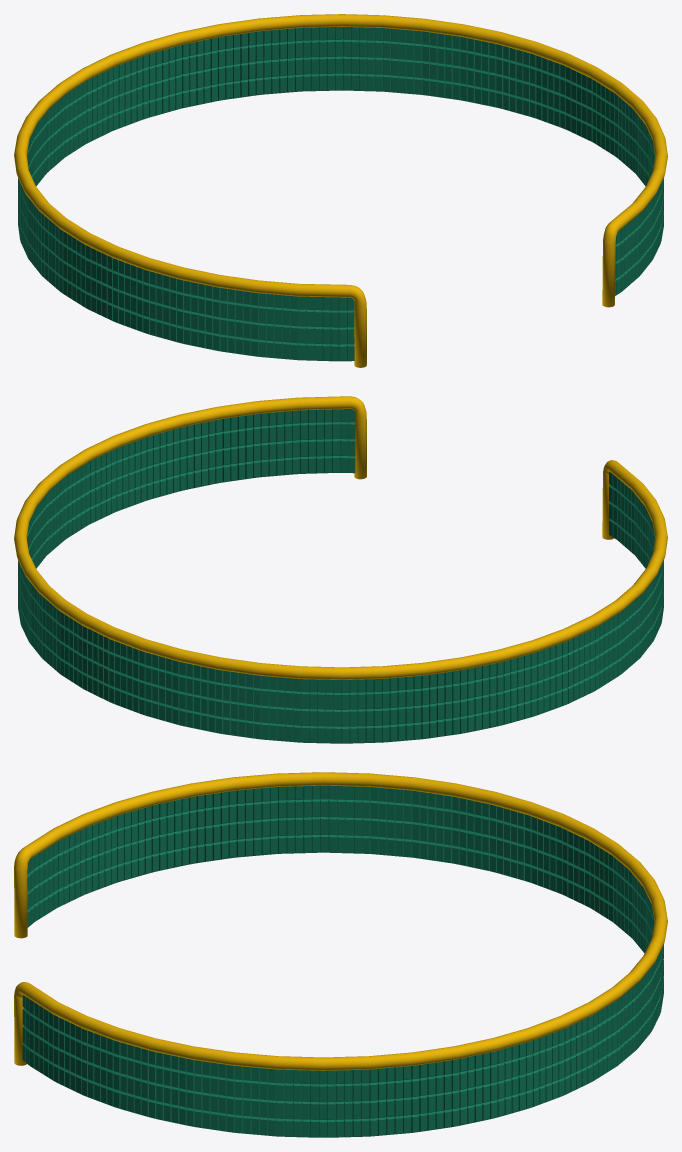
The model's file is FunLargeLvl3.fbx.
The picture shows the model from 3 angles, top to bottom: view 1: azimuth 30°, elevation 25°; view 2: azimuth 150°, elevation 25°; view 3: azimuth 270°, elevation 25°; orthographic projection. The views are drawn at different scales.
Visible parts, largest first — view 1: L3Wall; view 2: L3Wall; view 3: L3Wall.
Boxes of the visible parts, bbox=[...] form: L3Wall: bbox=[14, 14, 667, 367]; L3Wall: bbox=[14, 396, 667, 743]; L3Wall: bbox=[14, 772, 667, 1137].
Bounding box in the file's own units: 491 × 66.11 × 466.
